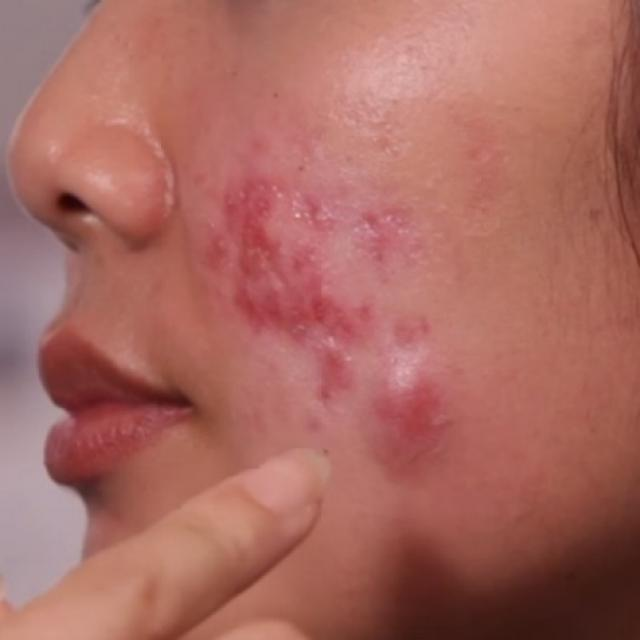Acne: (218, 170, 359, 388), (376, 356, 446, 474), (354, 200, 432, 272), (355, 296, 441, 346)
